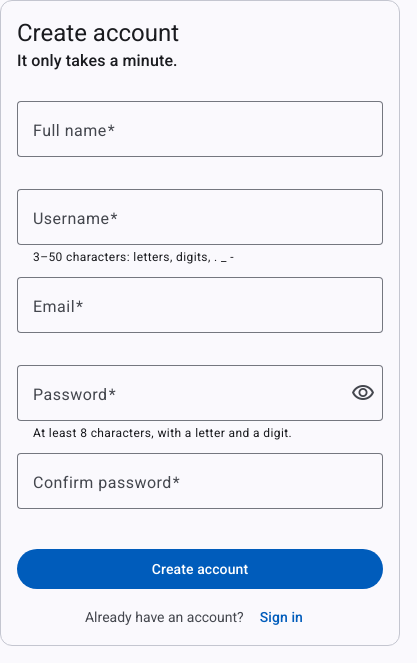
Test: RegisterComponent › blocks submission when the passwords do not match
Type "Jane" into the field labelled "Full name".
click(200, 129); type("Jane")  # box top-left (33, 117), bottom-right (367, 141)
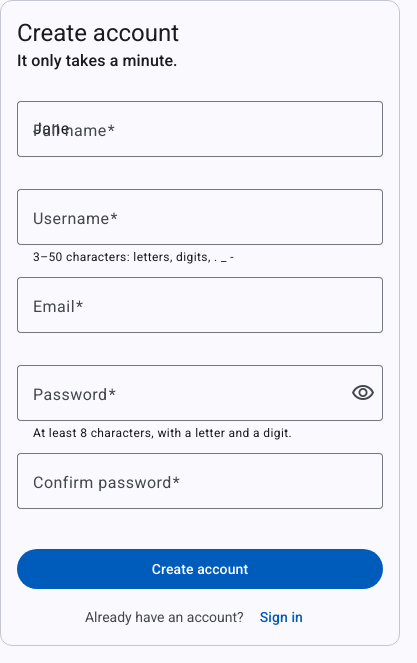
Type "jane" into the field labelled "Username".
click(200, 217); type("jane")  # box top-left (33, 205), bottom-right (367, 229)
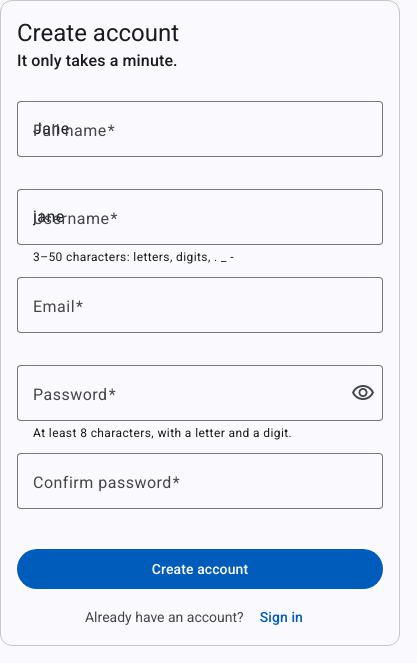
Type "jane@example.com" into the field labelled "Email".
click(200, 305); type("jane@example.com")  # box top-left (33, 293), bottom-right (367, 317)
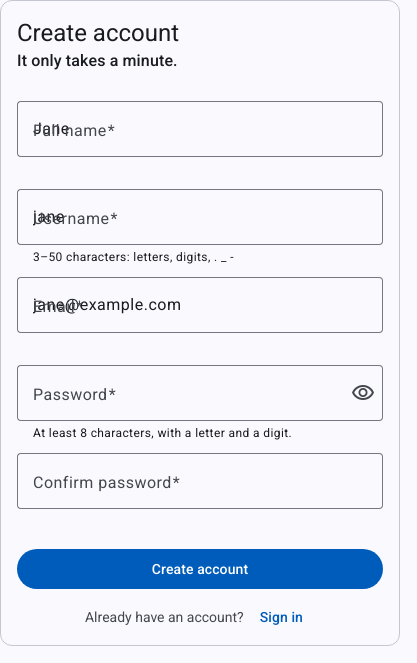
Type "Secret123" into the password field labelled "Password".
click(186, 393); type("Secret123")  # box top-left (33, 381), bottom-right (339, 405)
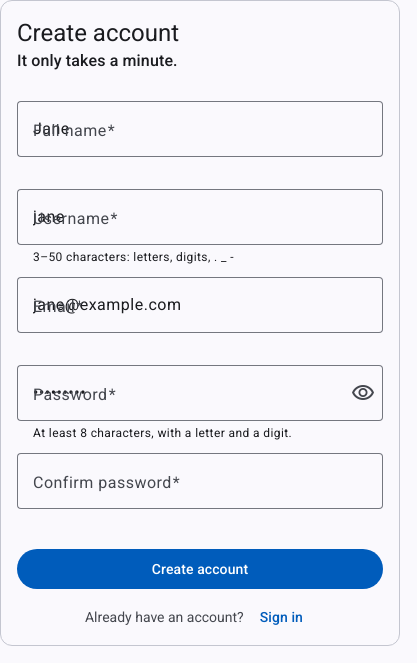
Type "Secret124" into the password field labelled "Confirm password".
click(200, 481); type("Secret124")  # box top-left (33, 469), bottom-right (367, 493)
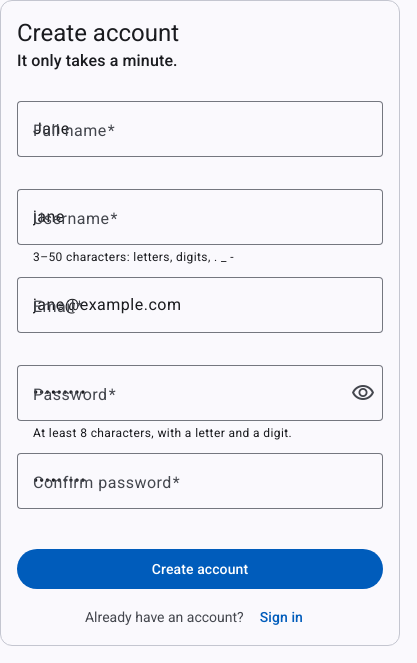
Click the submit button.
click(200, 569)  # box top-left (17, 549), bottom-right (383, 589)
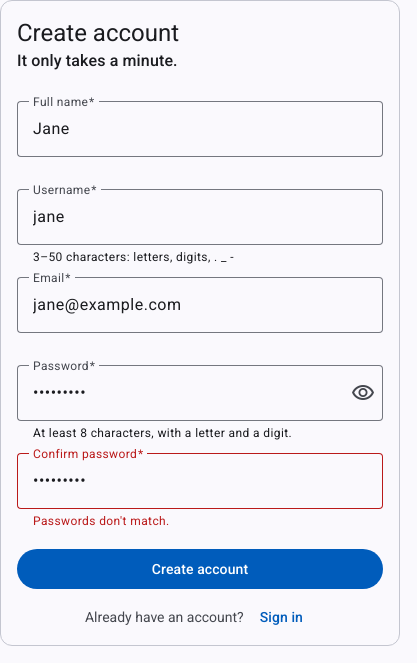
Now the text "Passwords don't match." is shown, box top-left (33, 514), bottom-right (170, 528)
